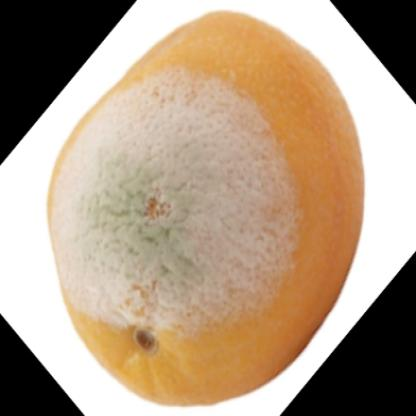rotten: (50, 12, 364, 406)
